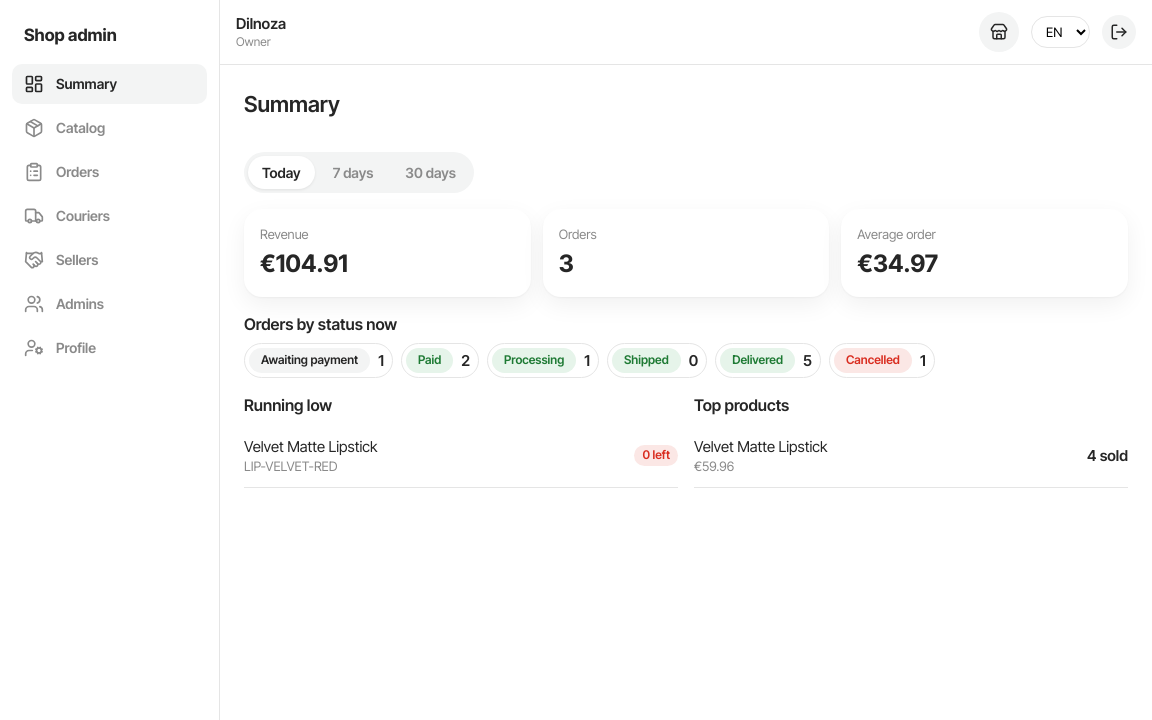
Test: AdminApp › returns to the sign-in screen when the session ends mid-use
Check: the text "Revenue" is shown, box left=260, top=226, right=308, bottom=242
Click the tab "7 days". click: (353, 172)
box: left=319, top=156, right=387, bottom=189
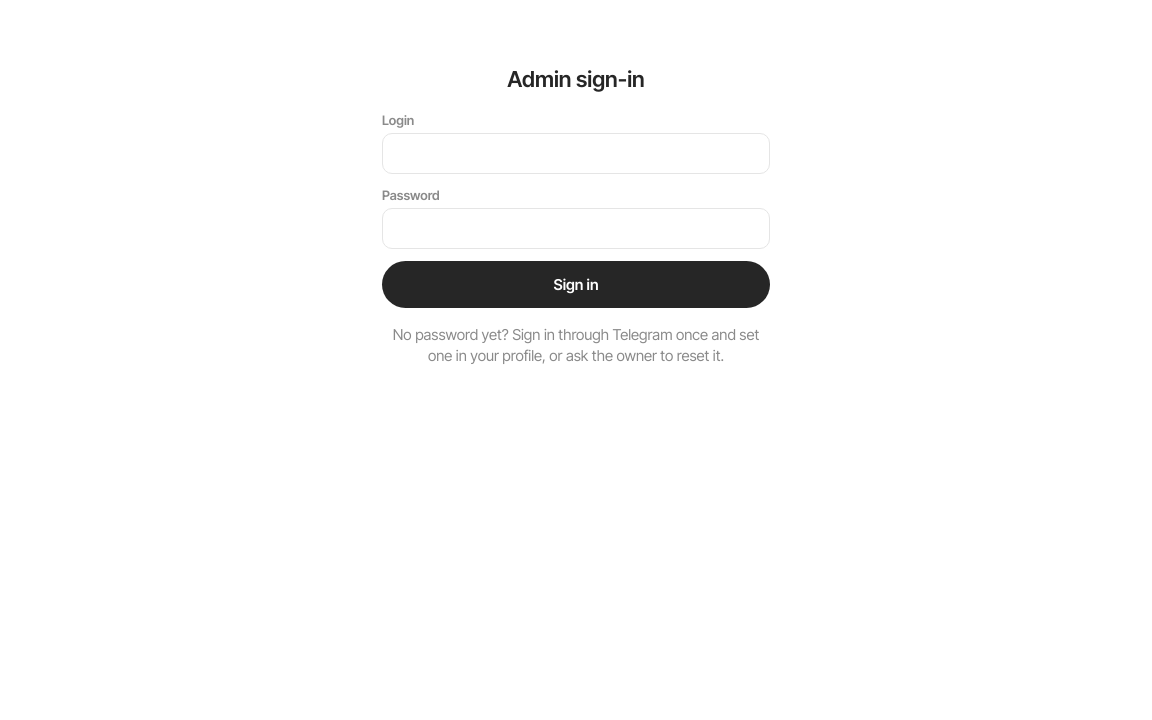
Check: the heading "Admin sign-in" is shown, box left=507, top=64, right=645, bottom=95
